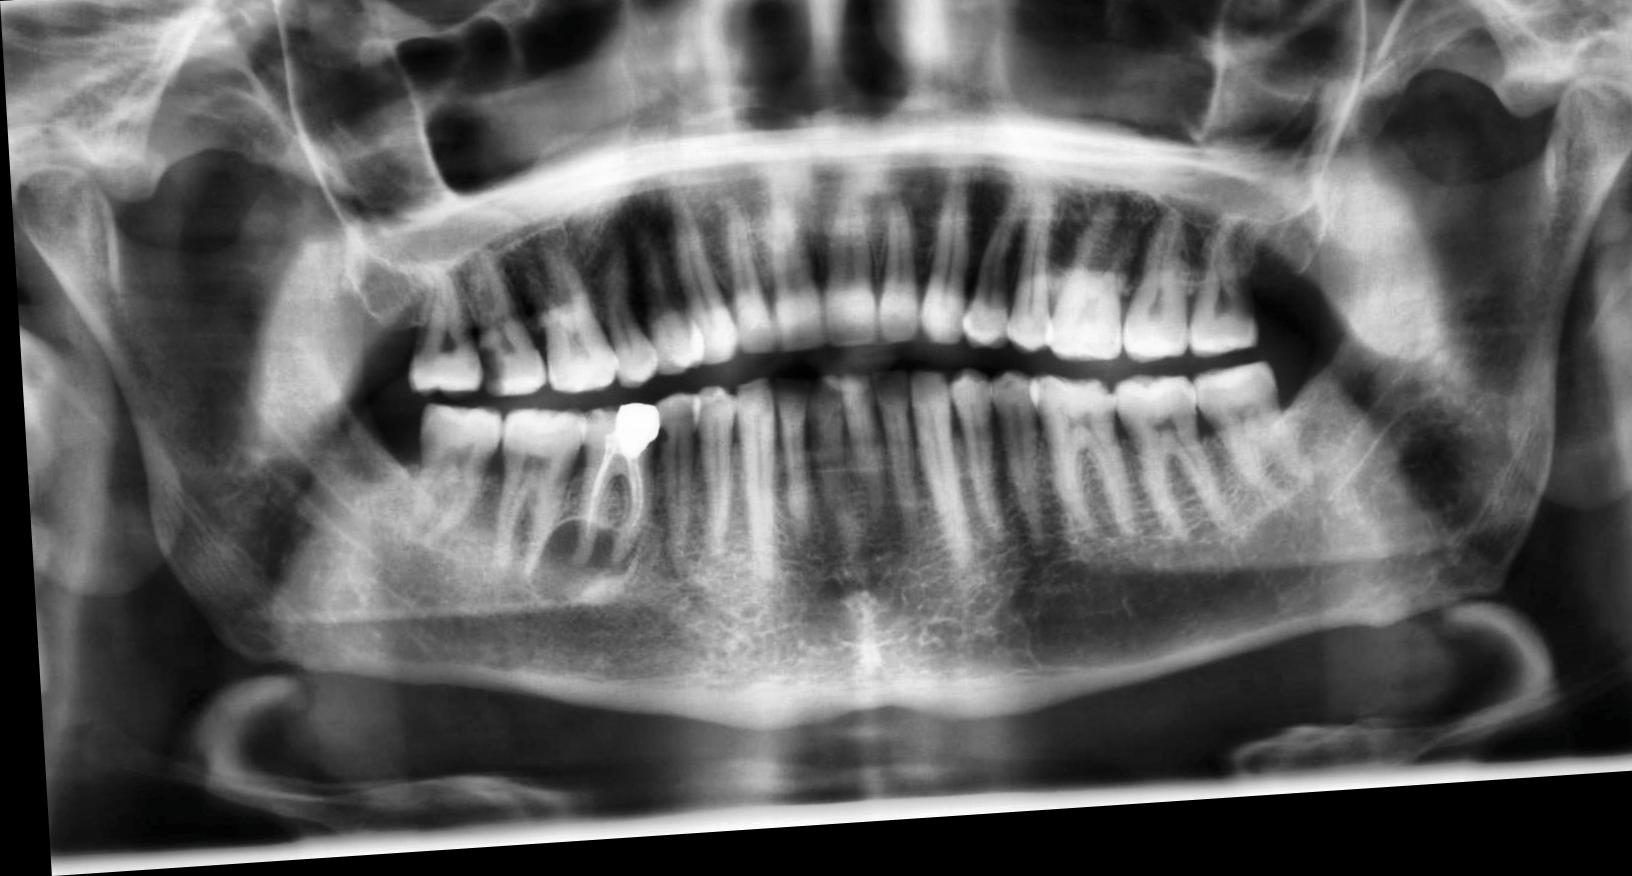radicular: (515, 521, 638, 617)
